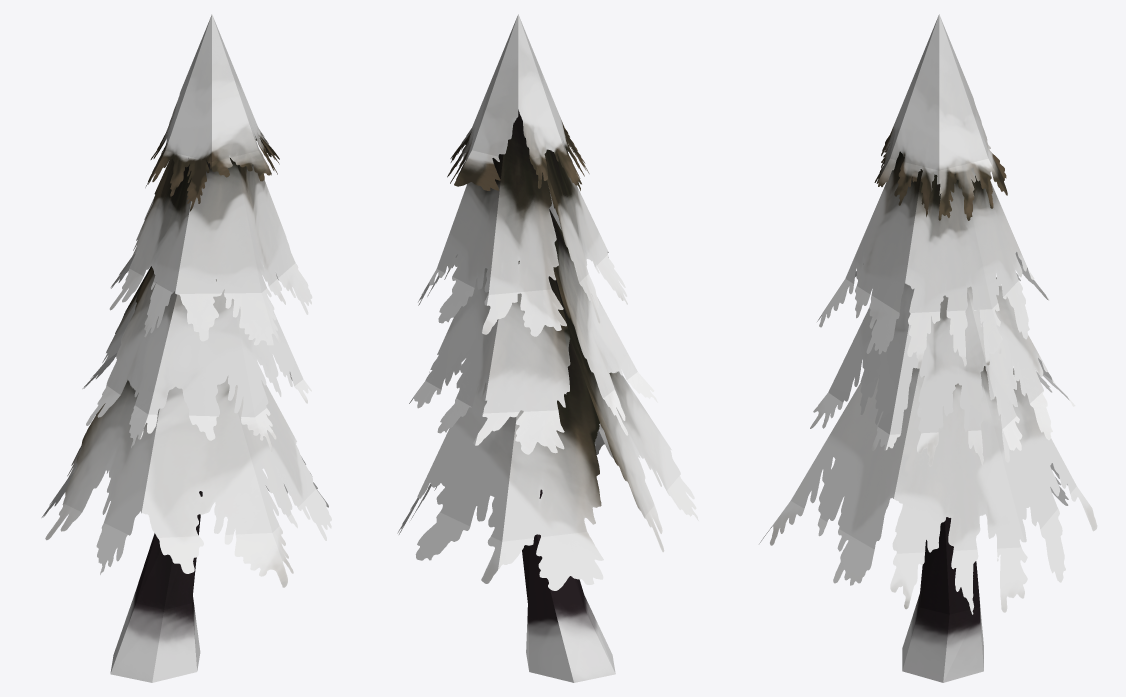
Rendered from Tree1.FBX.
The picture shows the model from 3 angles, left to right: view 1: azimuth 30°, elevation 25°; view 2: azimuth 150°, elevation 25°; view 3: azimuth 270°, elevation 25°; orthographic projection. The views are drawn at different scales.
Parts seen in each view (by area): view 1: Tree3; view 2: Tree3; view 3: Tree3.
Part boxes in pixels (x1,y1,x2,y2): Tree3: (41, 14, 331, 682); Tree3: (397, 14, 698, 682); Tree3: (759, 14, 1097, 682).
Bounding box in the file's own units: 166 × 361 × 175.
Materials: 1 (1 with a texture image).
